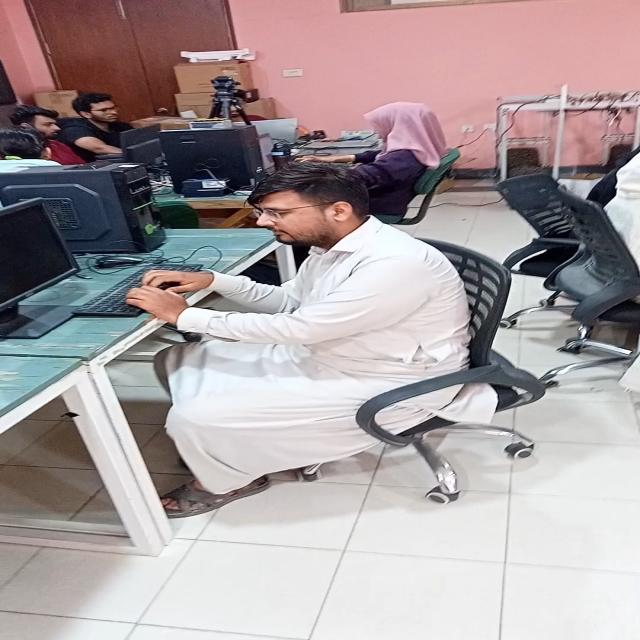dress: (157, 217, 483, 486)
glasses: (243, 205, 304, 220)
